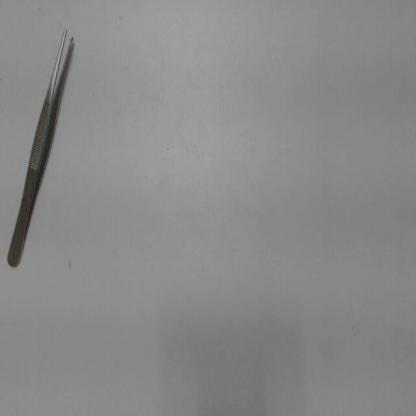Gillies Toothed Dissector: (7, 24, 75, 272)
